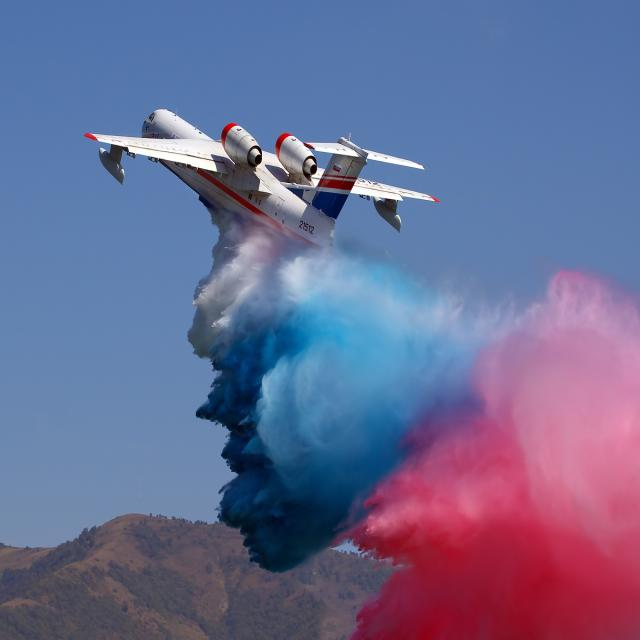MIL_Plane: (224, 106, 299, 255)
